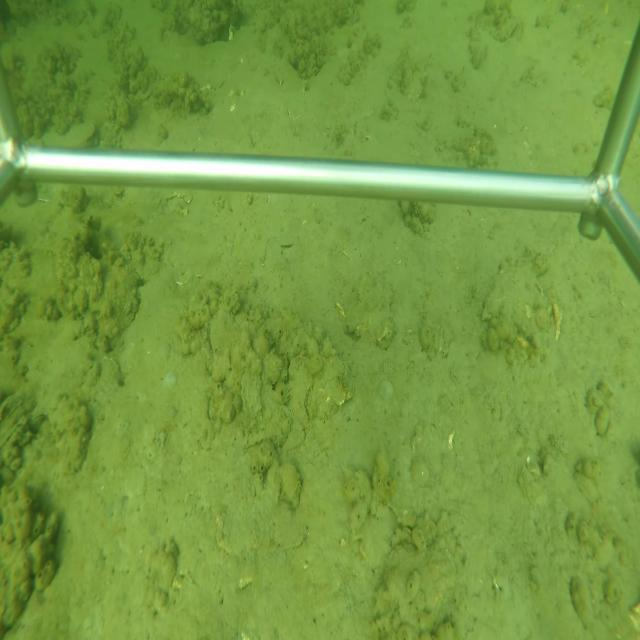Oyster-Closed: (412, 202, 435, 229)
